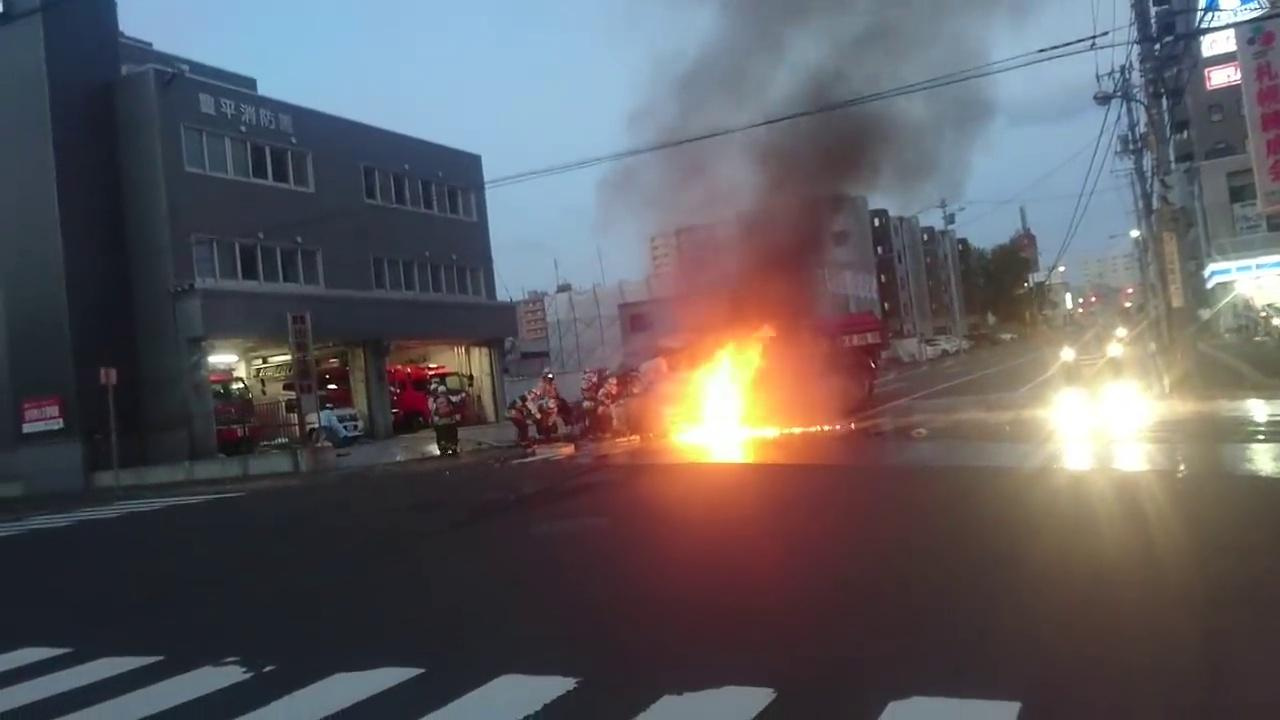Fire: (655, 332, 850, 444)
